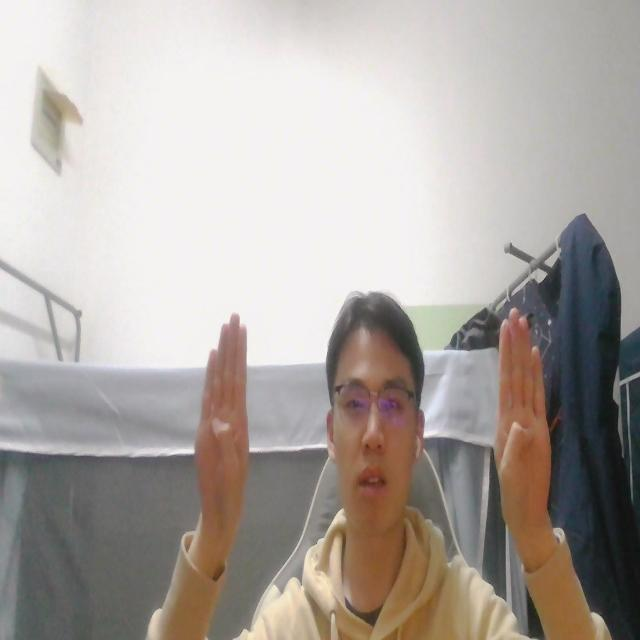four: (496, 306, 554, 530), (195, 311, 253, 530)
